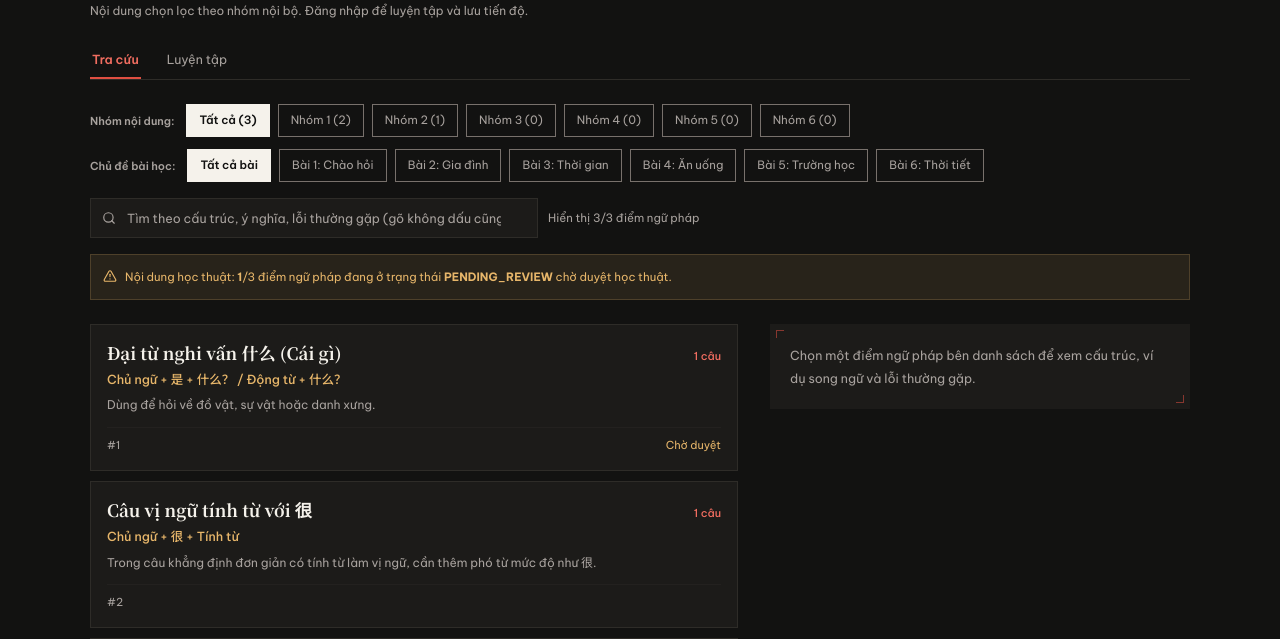
Test: HSK Grammar Lab (GrammarView) › toggles Pinyin display on example sentences
Click the text "Đại từ nghi vấn 什么 (Cái gì)". click: coordinates (224, 352)
box: x1=107 y1=341 x2=342 y2=364
(page scrolled)
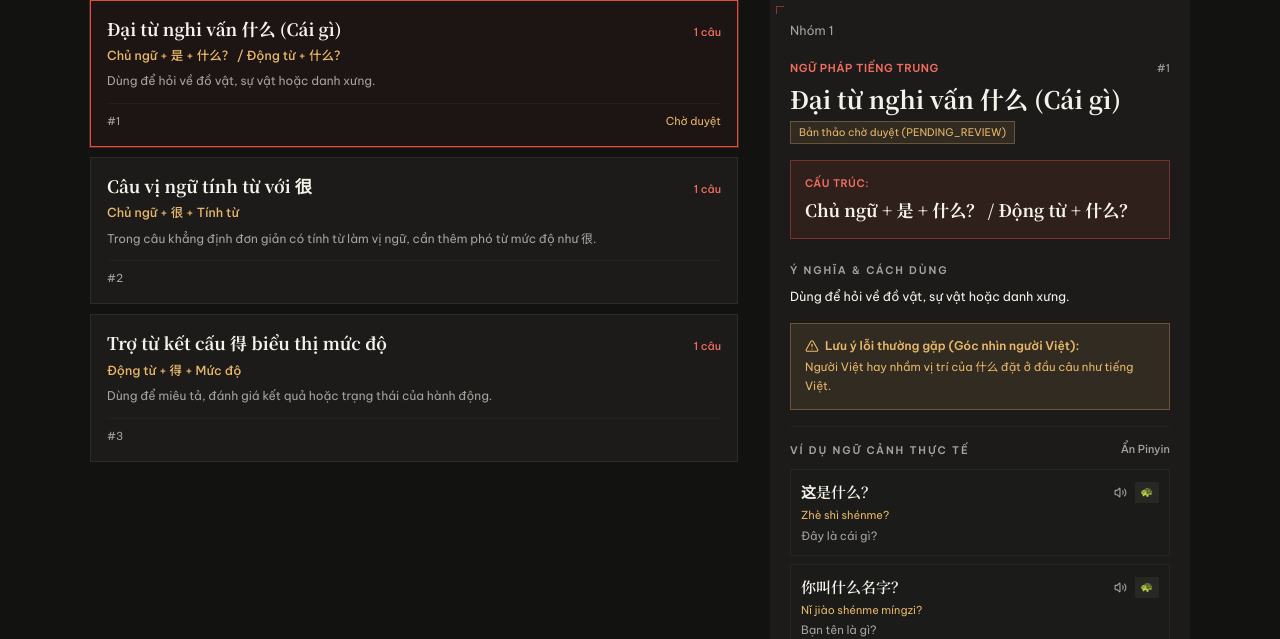
Now the text "Zhè shì shénme?" is shown, box x1=801 y1=508 x2=889 y2=522
# Find and click Toggle Pinyin button
Click the button "Ẩn Pinyin". click: coordinates (1145, 450)
box: x1=1121 y1=441 x2=1170 y2=459
(page scrolled)
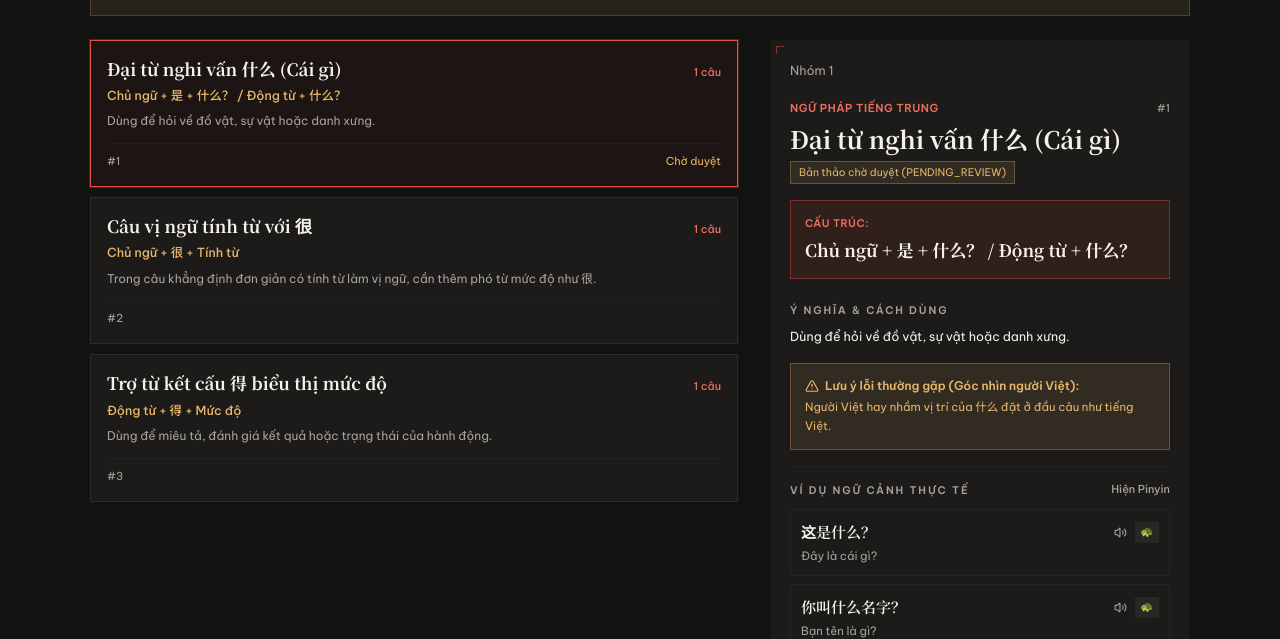
Now the text "Zhè shì shénme?" is gone
Now the button "Hiện Pinyin" is shown, box x1=1111 y1=481 x2=1170 y2=499
